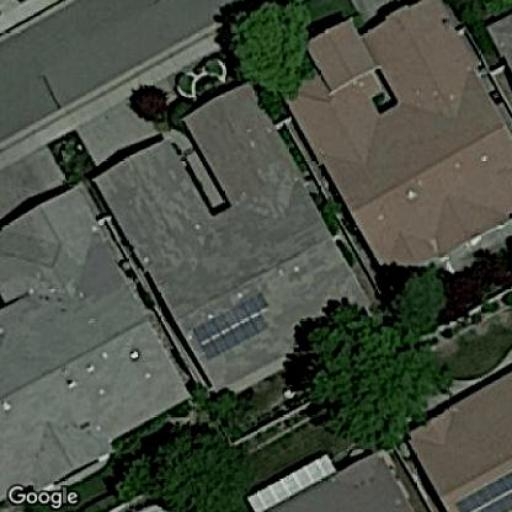solar-panel: (189, 289, 273, 362), (448, 466, 511, 511)
